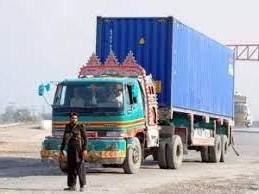truck: (41, 15, 234, 177)
